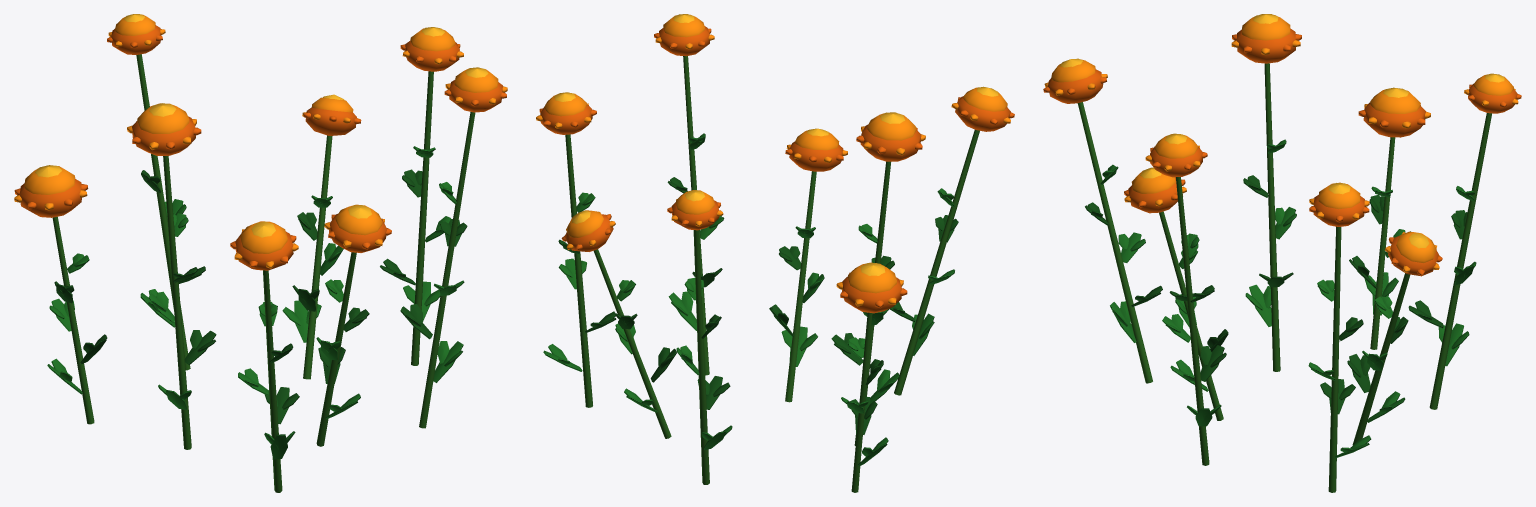
Rendered from cempasuchil_macizo.obj.
3 views of the same model, side by side, from view 1: azimuth 30°, elevation 25°; view 2: azimuth 150°, elevation 25°; view 3: azimuth 270°, elevation 25° (orthographic). The views are drawn at different scales.
Parts seen in each view (by area): view 1: cempasuchil_macizo; view 2: cempasuchil_macizo; view 3: cempasuchil_macizo.
Part boxes in pixels (x1=…): cempasuchil_macizo: x1=14, y1=14, x2=507, y2=492; cempasuchil_macizo: x1=536, y1=14, x2=1014, y2=492; cempasuchil_macizo: x1=1043, y1=14, x2=1521, y2=492.
Bounding box in the file's own units: 0.7582 × 0.6348 × 0.791.
